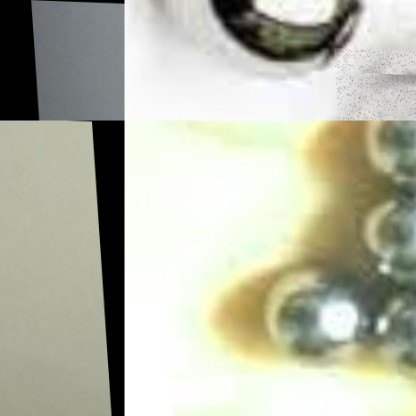ironball: (163, 0, 362, 78), (263, 259, 357, 359), (353, 184, 416, 279), (364, 279, 416, 377), (349, 120, 415, 188)
